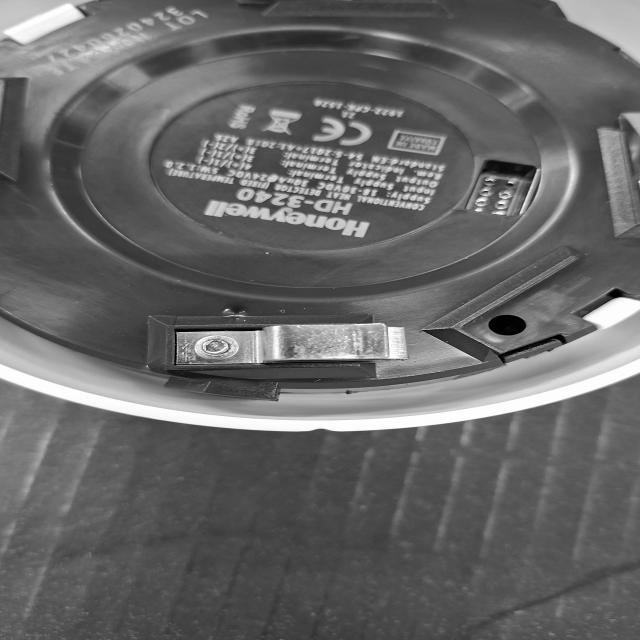yayli: (162, 313, 421, 376)
